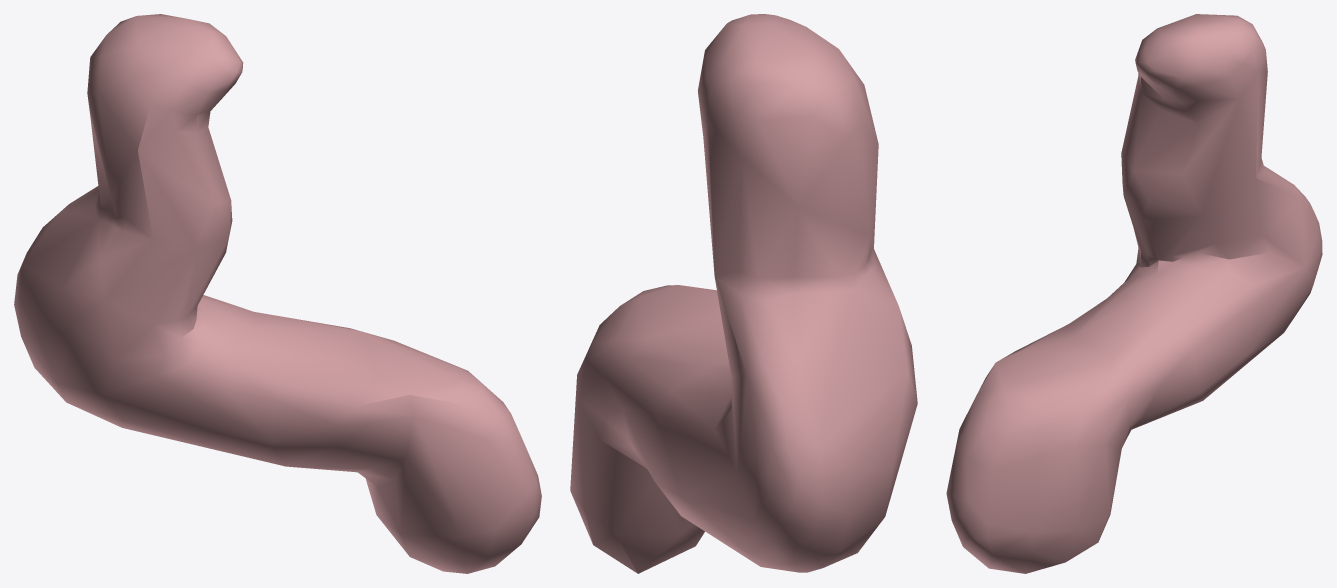
The model's file is fma16983_fj2621.glb.
3 renders of one model, left to right at view 1: azimuth 30°, elevation 25°; view 2: azimuth 150°, elevation 25°; view 3: azimuth 270°, elevation 25°, orthographic. The views are drawn at different scales.
Visible parts, largest first — view 1: FMA16983_FJ2621; view 2: FMA16983_FJ2621; view 3: FMA16983_FJ2621.
Boxes of the visible parts, box(x1,y1,x2,y2) form: FMA16983_FJ2621: box(14, 14, 541, 573); FMA16983_FJ2621: box(570, 14, 917, 573); FMA16983_FJ2621: box(946, 14, 1322, 573).
Bounding box in the file's own units: 0.0572 × 0.0797 × 0.0576.
